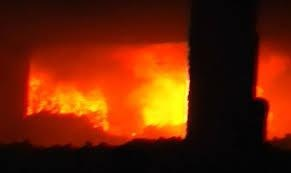fire: (25, 69, 110, 130)
